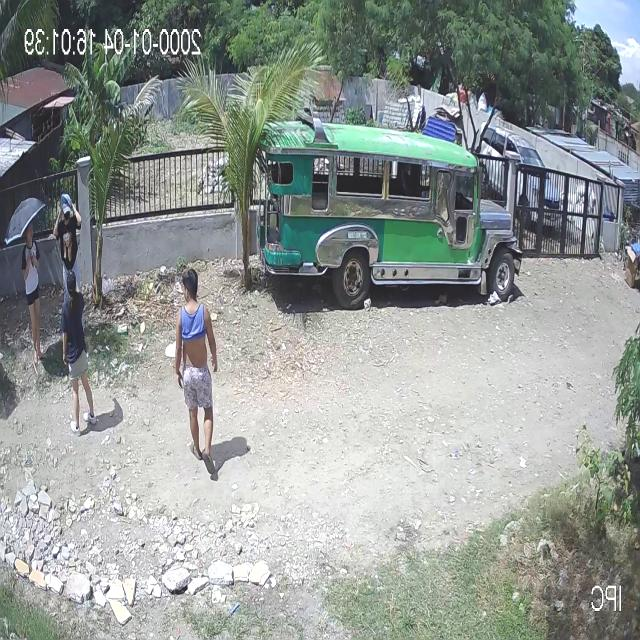standing: (60, 269, 95, 437), (23, 227, 48, 367), (55, 188, 81, 306)
walking: (173, 270, 220, 492)
